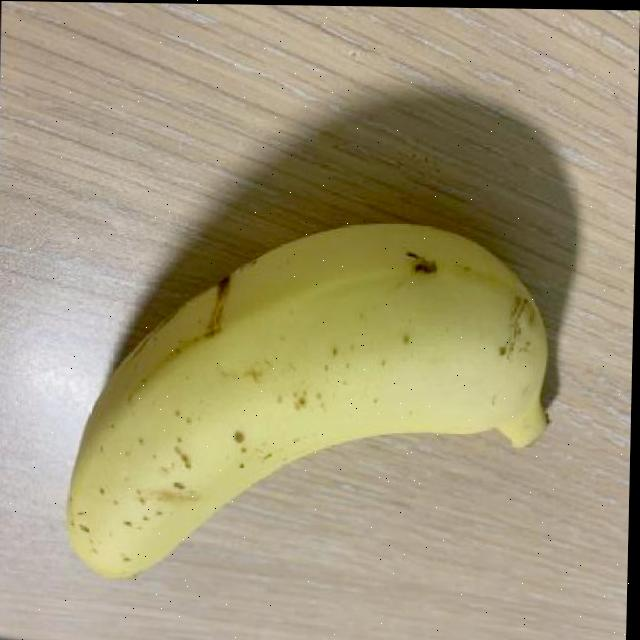banana: (58, 203, 563, 592)
